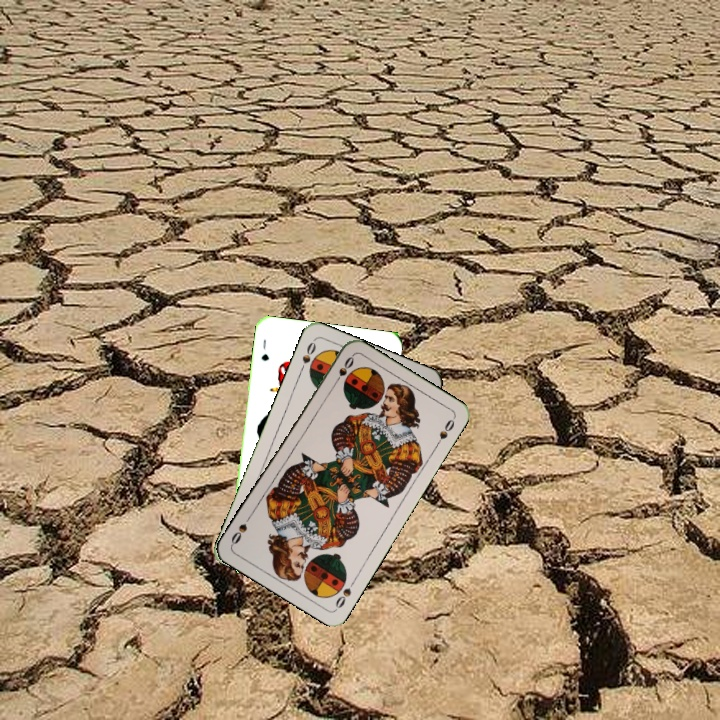GU: (257, 335, 272, 363)
SO: (329, 352, 357, 389), (331, 575, 358, 611), (296, 336, 318, 375)
